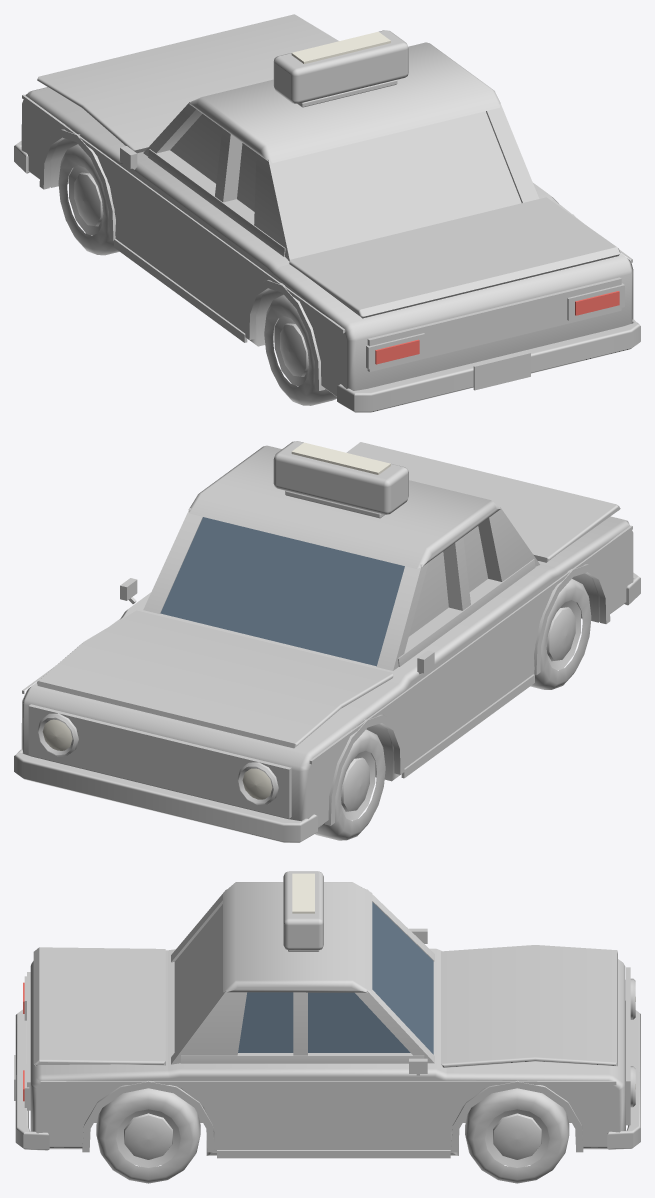
Rendered from TaxiCab.glb.
The picture shows the model from 3 angles, top to bottom: view 1: azimuth 30°, elevation 25°; view 2: azimuth 150°, elevation 25°; view 3: azimuth 270°, elevation 25°; orthographic projection. The views are drawn at different scales.
Parts seen in each view (by area): view 1: Body, Tail, Glow; view 2: Body, Glass, Glow; view 3: Body, Glass, Glow.
Boxes of the visible parts, x1=… form: Body: x1=14, y1=14, x2=640, y2=412; Tail: x1=375, y1=291, x2=619, y2=364; Glow: x1=291, y1=31, x2=390, y2=64; Body: x1=14, y1=441, x2=640, y2=842; Glass: x1=160, y1=517, x2=404, y2=666; Glow: x1=42, y1=442, x2=390, y2=799; Body: x1=14, y1=871, x2=640, y2=1183; Glass: x1=238, y1=902, x2=433, y2=1054; Glow: x1=292, y1=873, x2=635, y2=1088.
Size of the model in its own units: 7 by 5.72 by 13.94.
